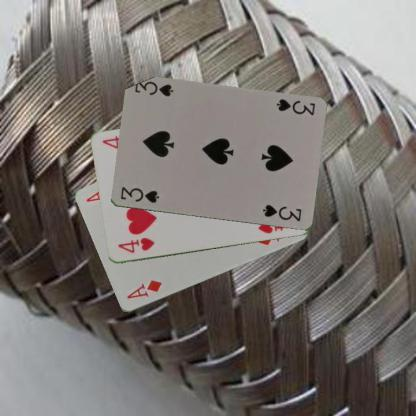3s: (117, 184, 160, 204), (273, 96, 316, 116)
4h: (115, 235, 155, 255)
Ad: (124, 278, 163, 300)
